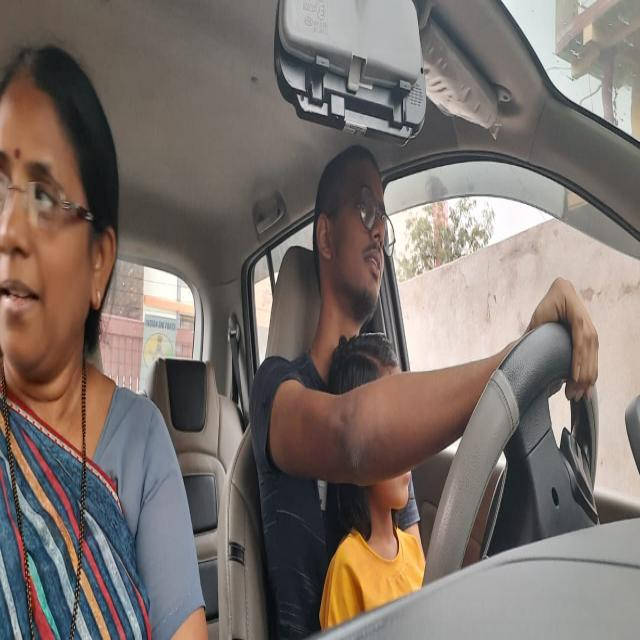child: (334, 341, 417, 522)
person: (0, 53, 116, 397), (311, 134, 394, 324)
